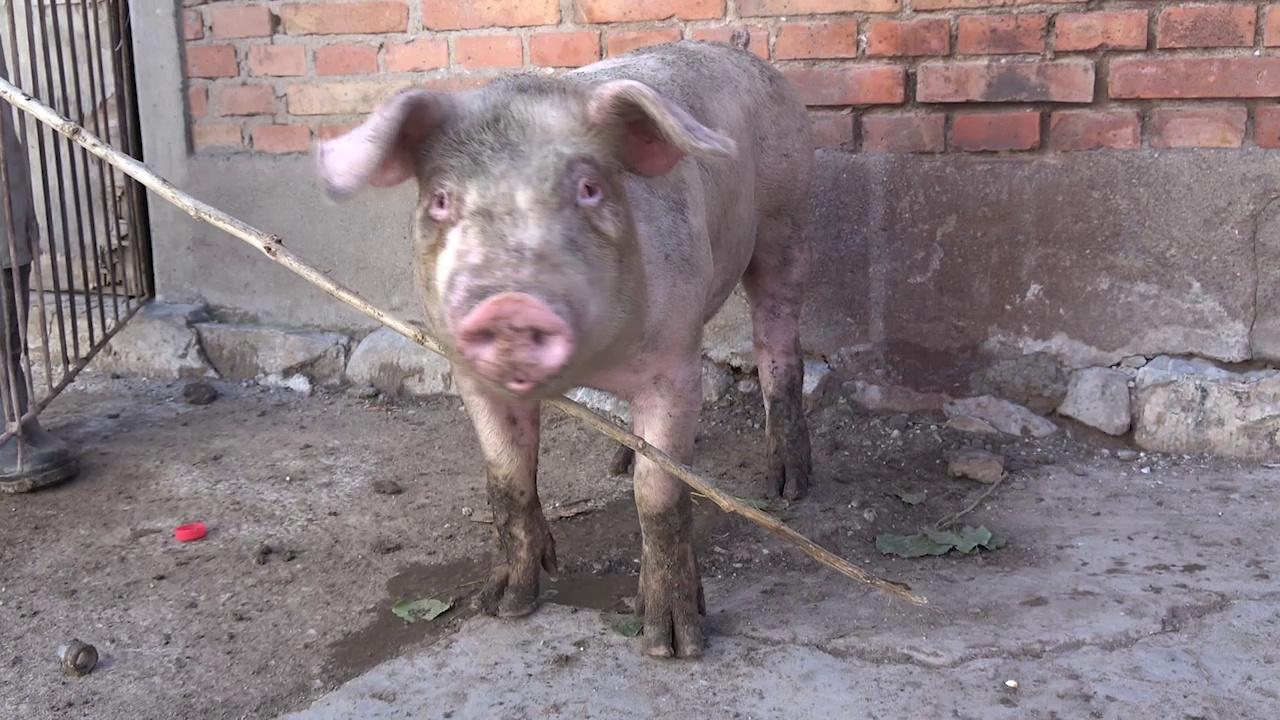Face: (309, 67, 755, 415)
